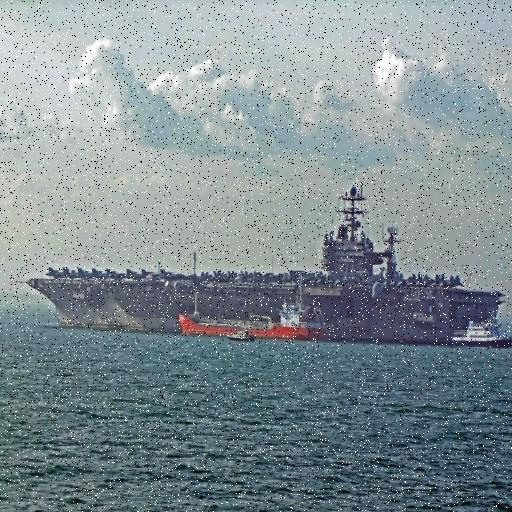Portanaves: (21, 176, 507, 341)
